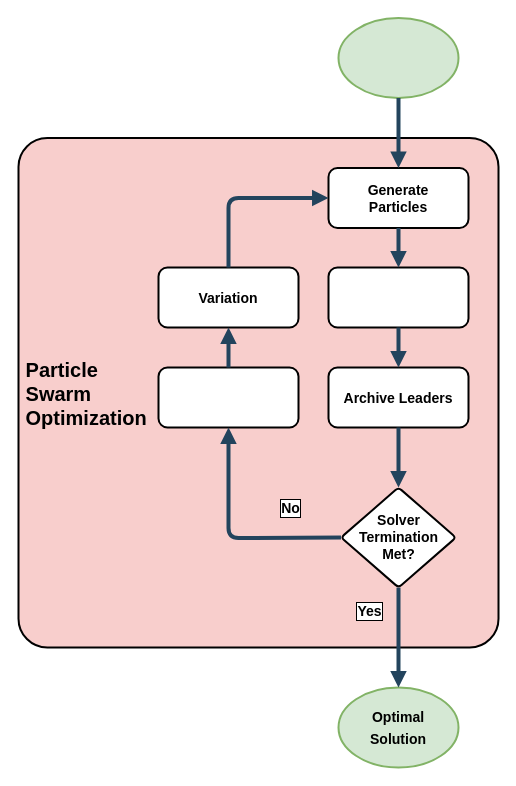
Image size: 516x786. Some labels were removed from this diagram. The shapes that lost their labels are listed below. From the top down, each one's centre as x and y in pixels, then its label:
(398,57): Random Initialization
(398,297): Compute Fitness
(228,397): Update Velocities And Positions
